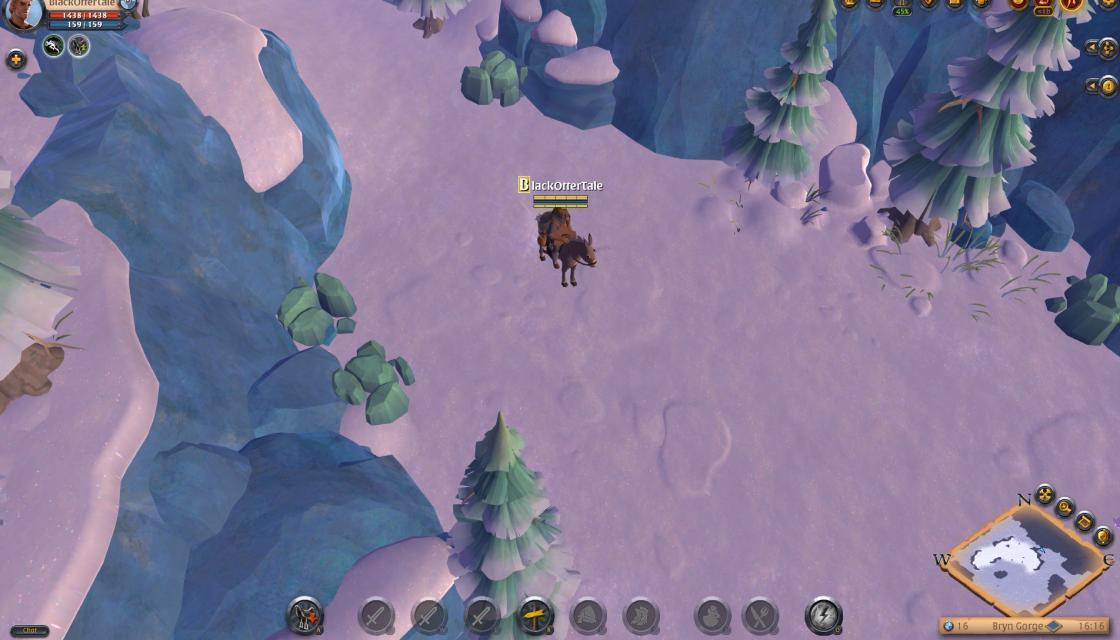sandstone: (336, 336, 414, 428), (271, 268, 358, 344), (1044, 272, 1120, 350), (456, 44, 532, 110)
